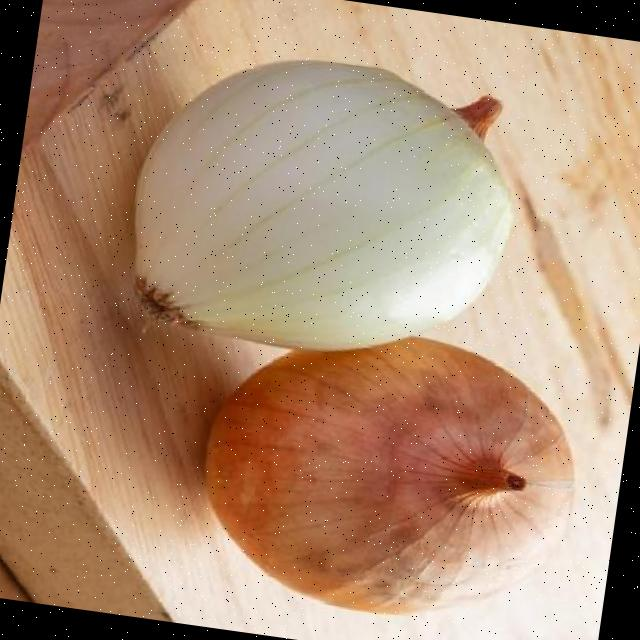Onion: (135, 60, 513, 350), (205, 339, 573, 616)
